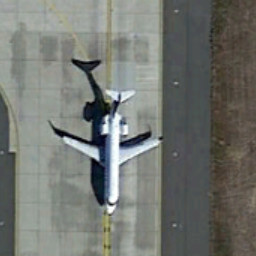Airplane: (43, 84, 170, 229)
